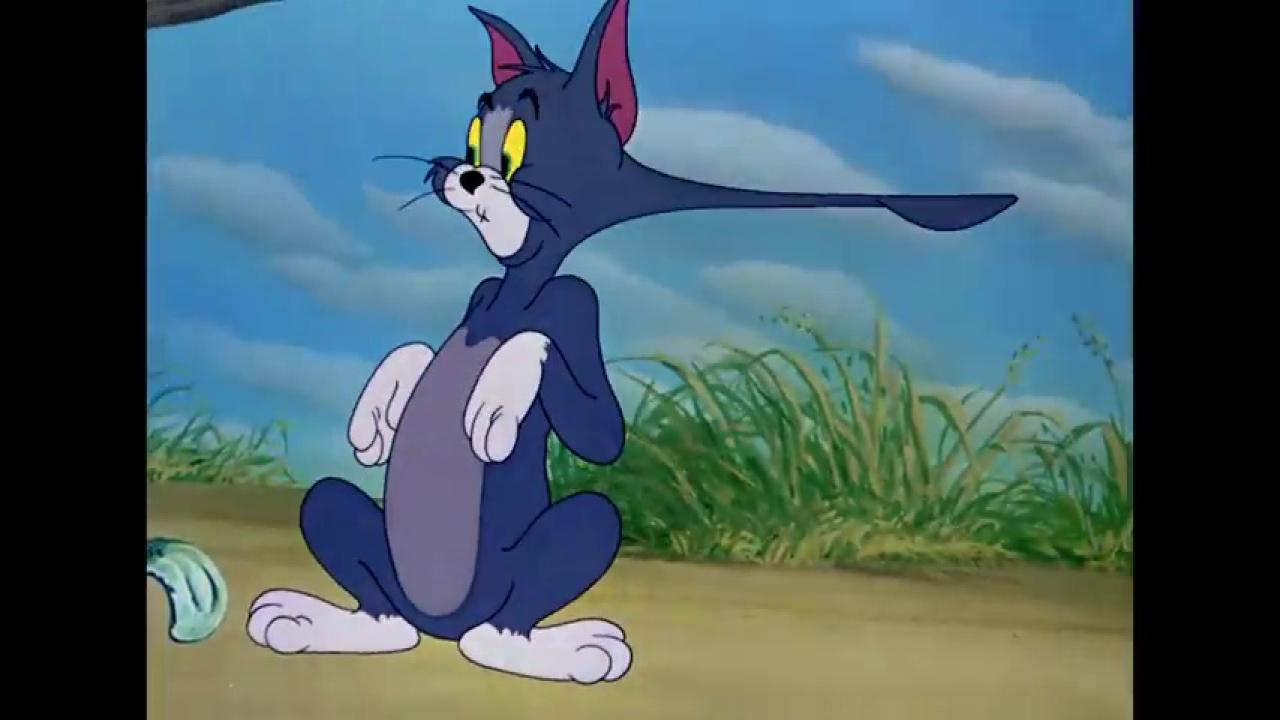Tom: (244, 0, 1024, 686)
